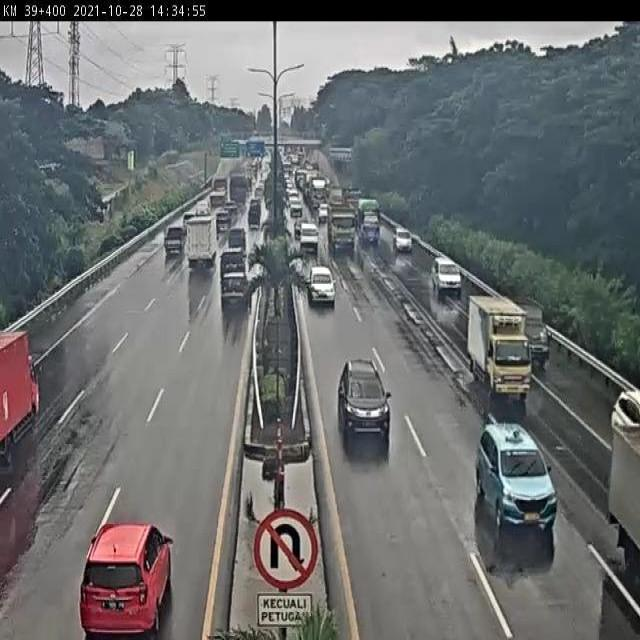big truck: (325, 202, 363, 262)
car: (79, 521, 186, 639), (479, 412, 558, 535), (331, 344, 398, 453), (517, 292, 554, 368), (430, 250, 466, 306), (601, 378, 640, 426), (305, 260, 337, 307), (218, 280, 250, 317), (219, 253, 250, 287), (162, 228, 183, 271), (393, 224, 414, 261), (299, 223, 320, 249), (228, 229, 249, 251)
small truck: (591, 405, 640, 572), (0, 325, 50, 484), (471, 295, 527, 397), (182, 219, 219, 288), (355, 196, 385, 251)
